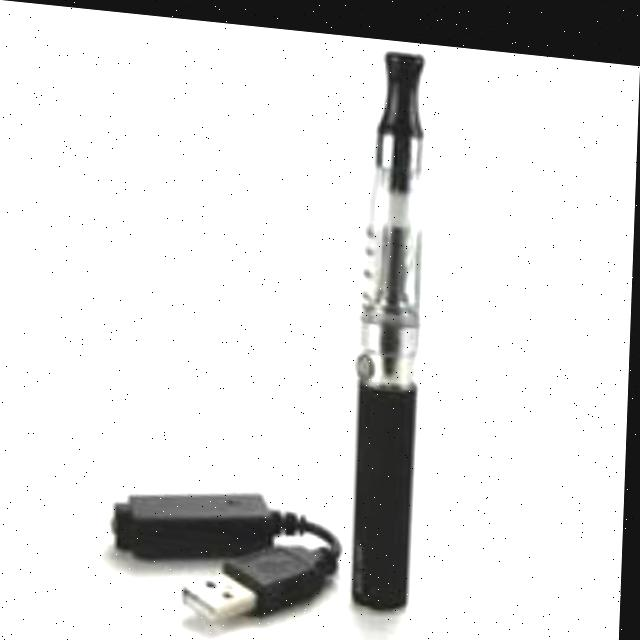vape: (353, 37, 432, 609)
